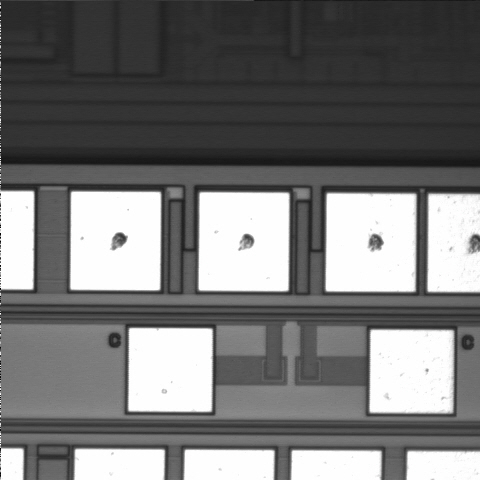pad: (70, 192, 161, 290), (199, 192, 289, 291), (326, 193, 416, 292), (128, 328, 212, 412), (370, 330, 453, 413)
